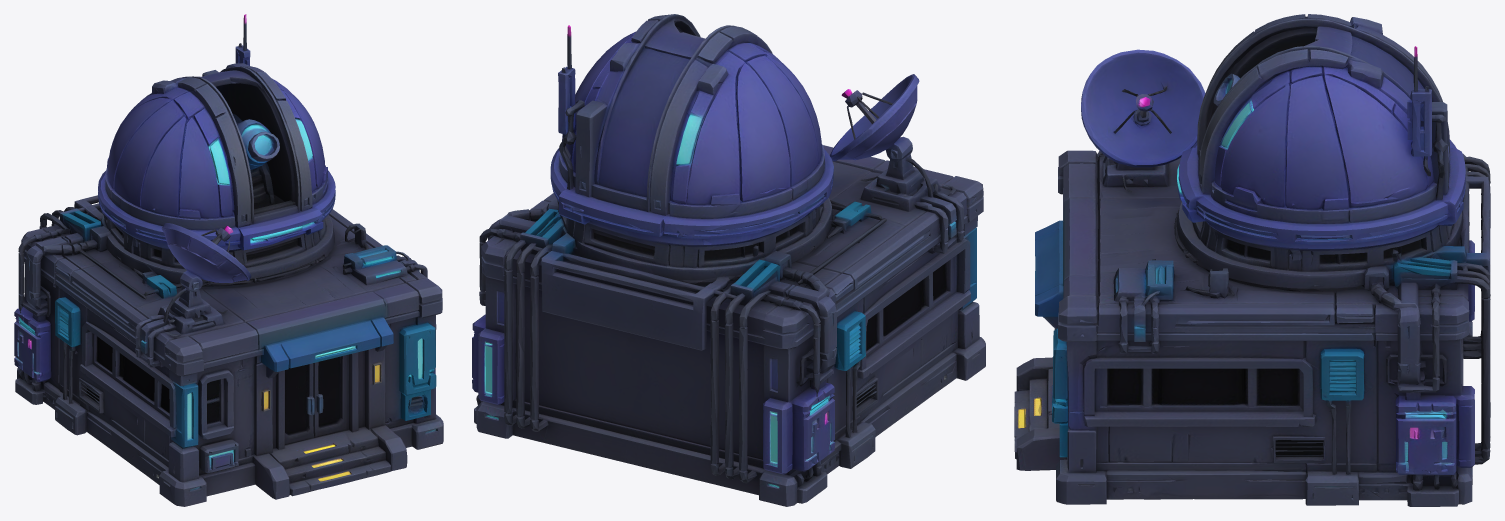
The picture shows the model from 3 angles, left to right: view 1: azimuth 30°, elevation 25°; view 2: azimuth 150°, elevation 25°; view 3: azimuth 270°, elevation 25°; orthographic projection. The views are drawn at different scales.
Visible parts, largest first — view 1: model; view 2: model; view 3: model.
Part boxes in pixels (x1,y1,x2,y2): model: (14,14,443,506); model: (472,14,985,506); model: (1014,14,1490,506).
Size of the model in its own units: 1.64 by 1.85 by 1.89.
Materials: 1 (1 with a texture image).
